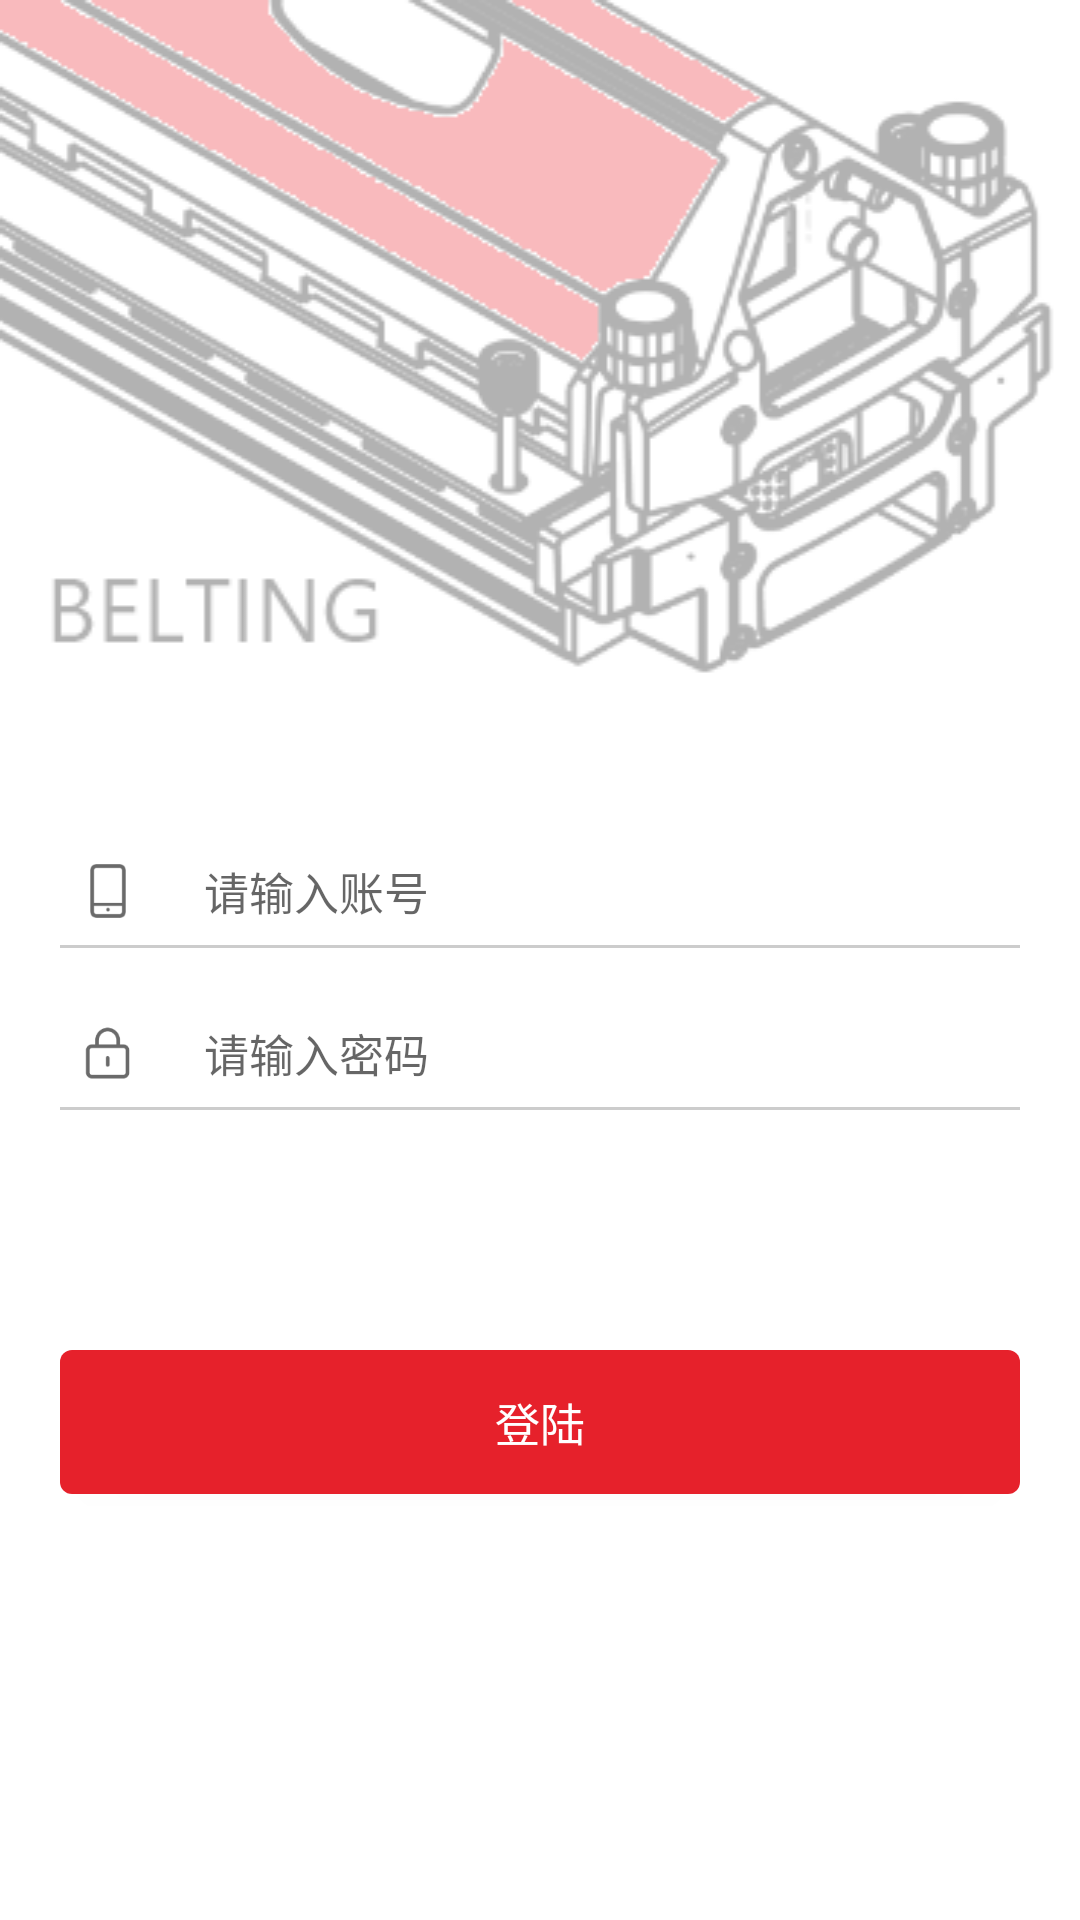

Named icons in this screenshot (1080w x 1920h) and their centers, [x,y]:
hint pass: [108,1053]
hint user: [108,891]
